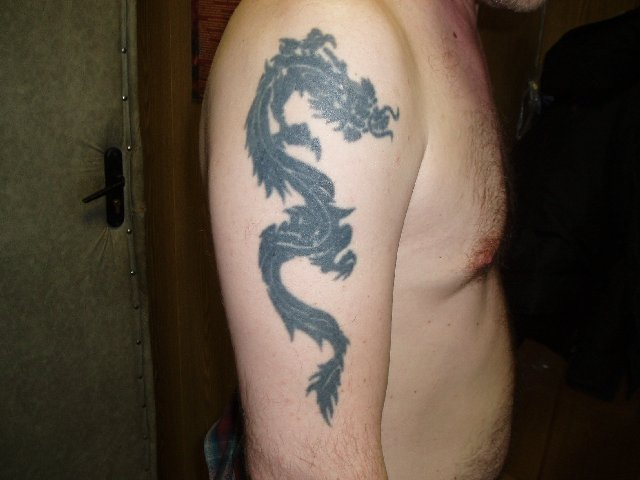tatu6_drakon: (229, 18, 425, 437)
